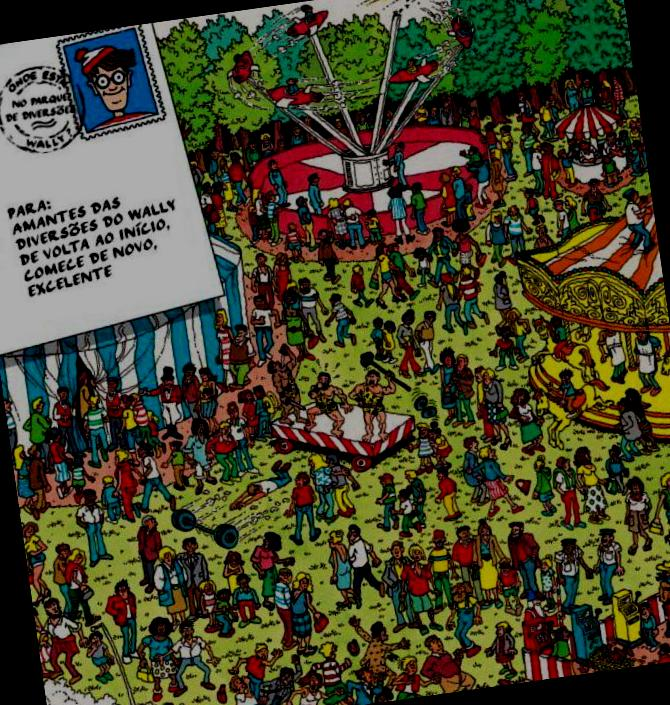waldo: (72, 40, 141, 116)
